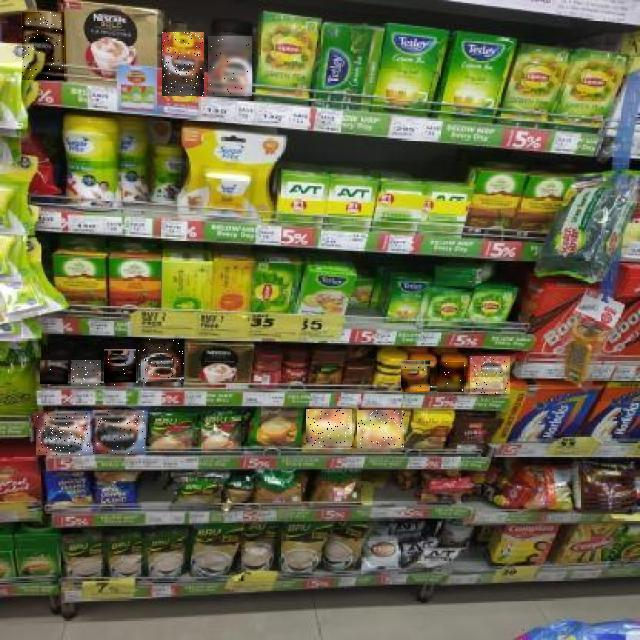Coffee: (22, 12, 64, 80), (162, 32, 204, 96), (208, 36, 252, 96), (93, 411, 145, 455), (36, 413, 90, 455), (138, 340, 184, 386), (358, 410, 406, 448), (306, 410, 352, 448), (470, 357, 510, 395), (104, 350, 136, 386), (402, 360, 434, 392), (438, 362, 466, 392), (71, 360, 101, 386), (40, 361, 68, 385)
